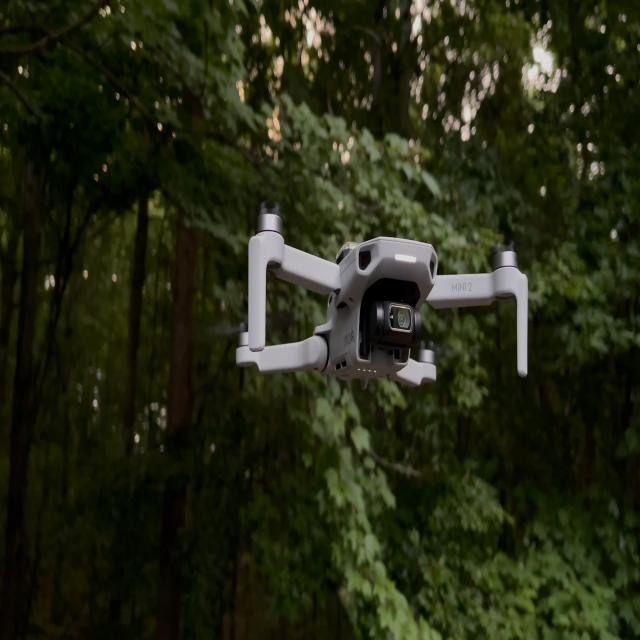Drone: (236, 221, 530, 383)
